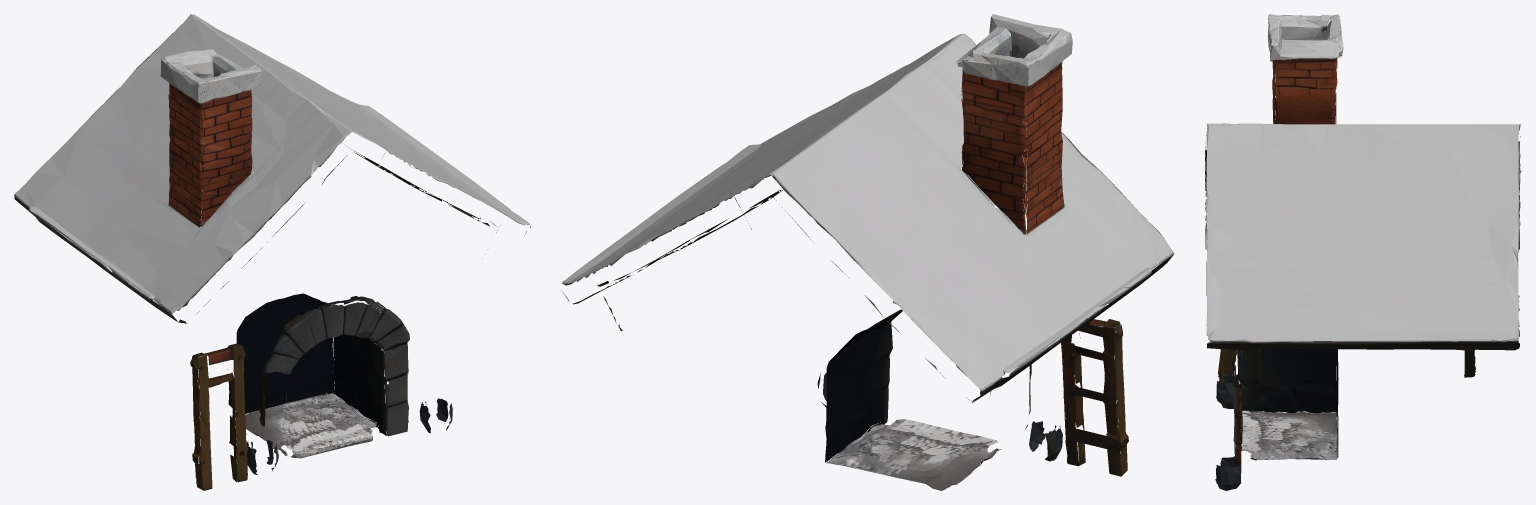
File: building_brick.glb
3 renders of one model, left to right at view 1: azimuth 30°, elevation 25°; view 2: azimuth 150°, elevation 25°; view 3: azimuth 270°, elevation 25°, orthographic. The views are drawn at different scales.
Visible parts, largest first — view 1: textured_mesh.obj.005; view 2: textured_mesh.obj.005; view 3: textured_mesh.obj.005.
Boxes of the visible parts, bbox=[...] form: textured_mesh.obj.005: bbox=[14, 14, 530, 490]; textured_mesh.obj.005: bbox=[561, 14, 1174, 490]; textured_mesh.obj.005: bbox=[1205, 14, 1521, 490].
Bounding box in the file's own units: 1.96 × 1.99 × 1.54.
1 material, 1 textured.
